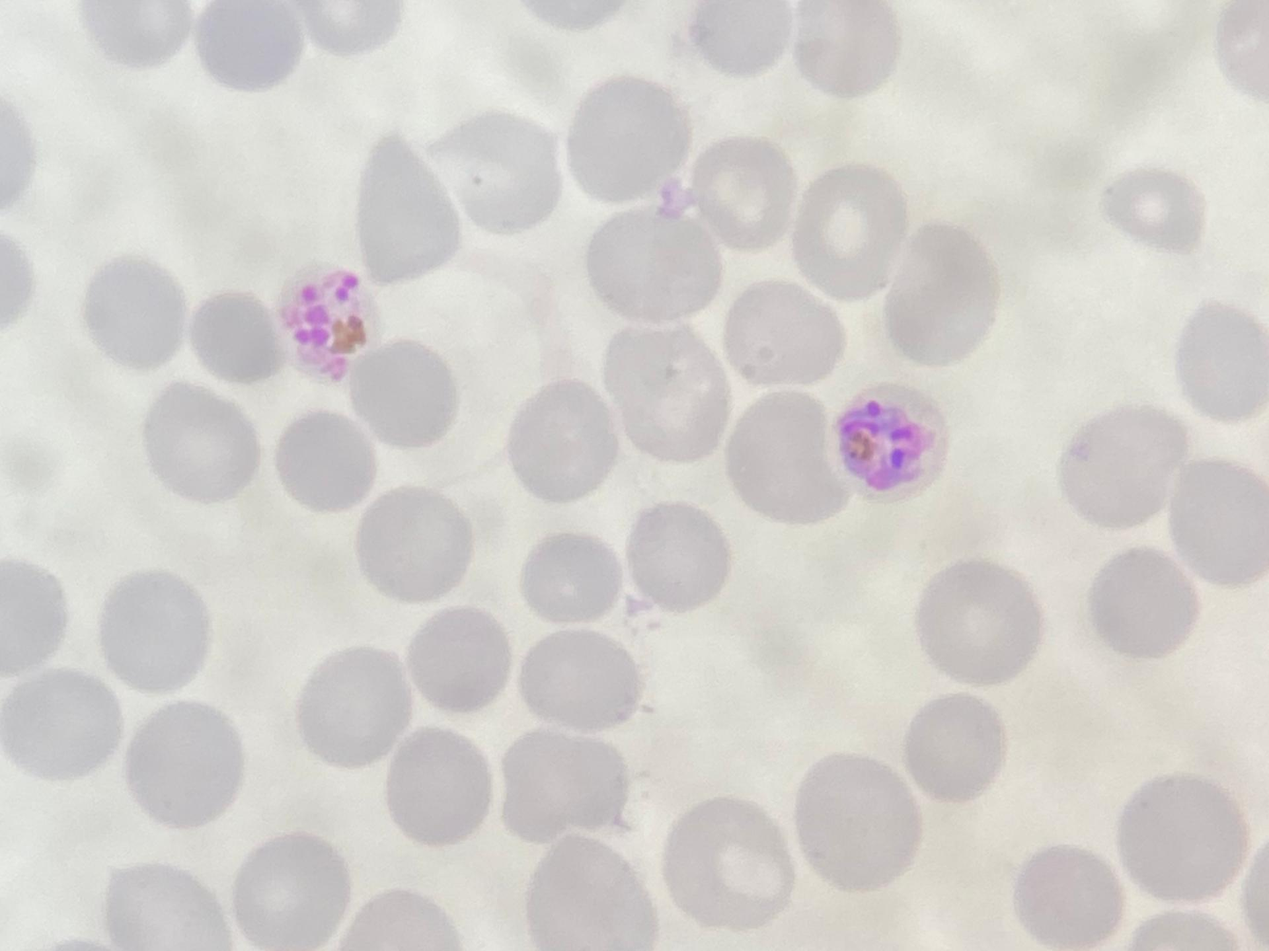Infected: (831, 380, 950, 506), (278, 265, 381, 386)
Uninfected: (598, 311, 732, 465), (793, 754, 923, 895), (1062, 397, 1193, 530), (722, 390, 852, 524), (666, 797, 794, 933), (887, 220, 1000, 369), (1119, 775, 1250, 903), (917, 555, 1043, 687), (357, 131, 463, 284), (127, 701, 251, 831), (593, 200, 728, 319), (567, 75, 691, 204), (527, 833, 660, 951), (296, 643, 417, 769), (505, 380, 623, 504), (796, 166, 907, 296), (104, 569, 215, 698), (504, 734, 633, 845), (147, 379, 264, 501), (235, 833, 354, 951), (446, 111, 562, 232), (357, 484, 473, 604), (732, 276, 849, 393), (387, 727, 499, 845), (520, 630, 646, 734), (5, 673, 122, 781), (628, 503, 736, 619), (81, 253, 185, 372), (1092, 551, 1202, 661), (692, 134, 796, 249), (1172, 301, 1269, 424), (1016, 843, 1124, 951), (355, 342, 461, 450), (1175, 461, 1269, 582), (791, 0, 907, 98), (904, 693, 1008, 802), (111, 863, 233, 951), (415, 607, 512, 715), (278, 412, 380, 513), (197, 0, 303, 89), (519, 534, 622, 625), (192, 289, 286, 387), (1100, 164, 1203, 251), (0, 562, 76, 678), (696, 7, 798, 76)
